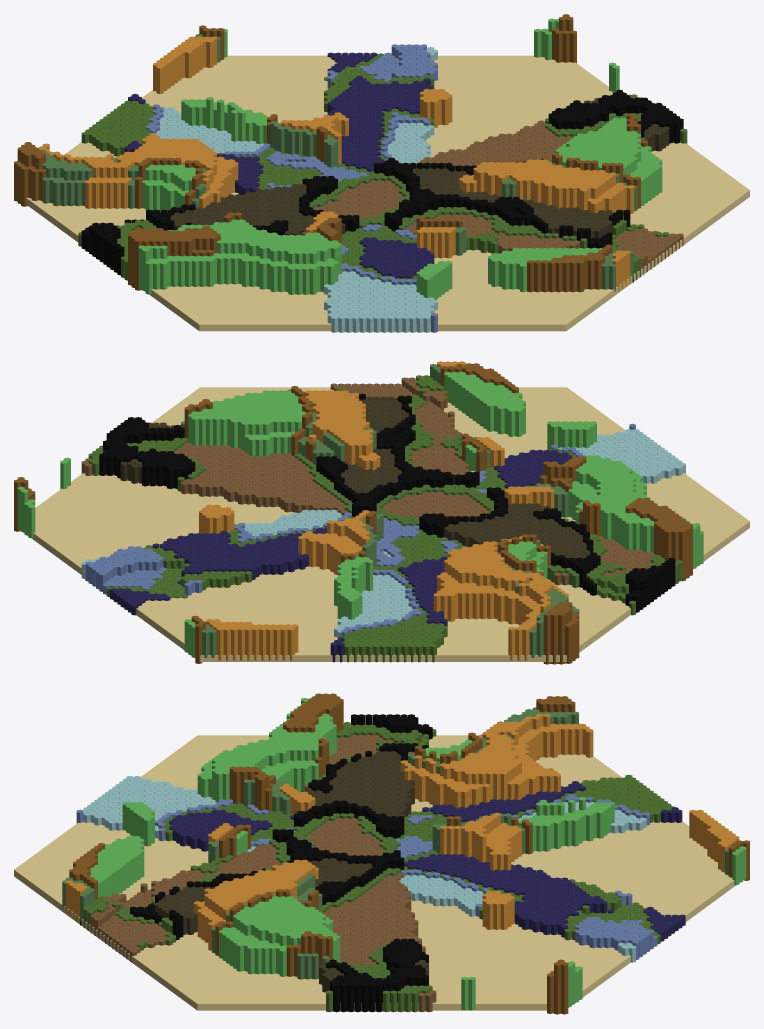
The model's file is 0012_tile_1010011.fbx.
The picture shows the model from 3 angles, top to bottom: view 1: azimuth 30°, elevation 25°; view 2: azimuth 150°, elevation 25°; view 3: azimuth 270°, elevation 25°; orthographic projection.
Visible parts, largest first — view 1: Plane; view 2: Plane; view 3: Plane.
Part boxes in pixels (<box>): Plane: <box>14,14,749,332</box>; Plane: <box>14,361,749,664</box>; Plane: <box>14,693,749,1014</box>.
Bounding box in the file's own units: 1008 × 84.68 × 1152.
